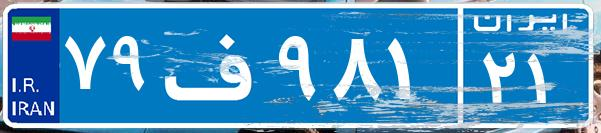1: (385, 28, 445, 110), (525, 38, 570, 115)
2: (475, 38, 525, 113)
7: (57, 26, 110, 107)
8: (330, 28, 385, 110)
9: (273, 28, 330, 110), (110, 28, 158, 105)
ف: (158, 15, 273, 115)
